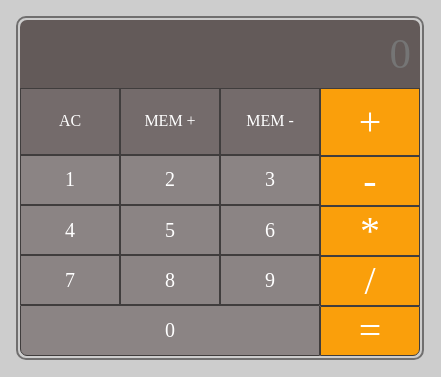
Scenario: App component › should show result after adding new operator
The image size is (441, 377).
Click the button "2" at (170, 180), box [120, 155, 220, 205]
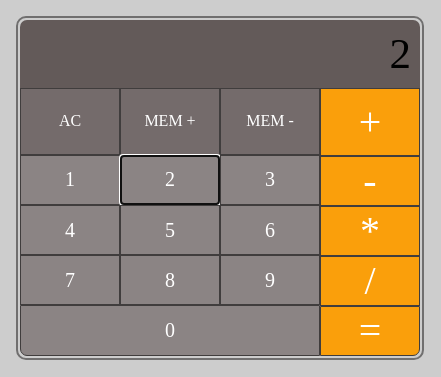
Click the button "+" at (370, 122), box [320, 88, 420, 156]
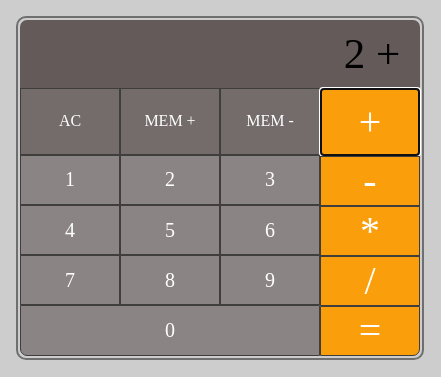
Click the button "2" at (170, 180), box [120, 155, 220, 205]
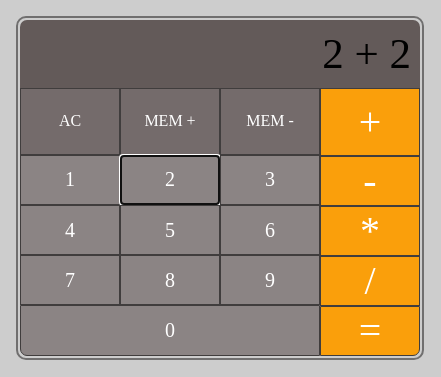
Expected: the field with placeholder "0" holds "2 + 2", [20, 20, 420, 88]
Click the button "+" at (370, 122), box [320, 88, 420, 156]
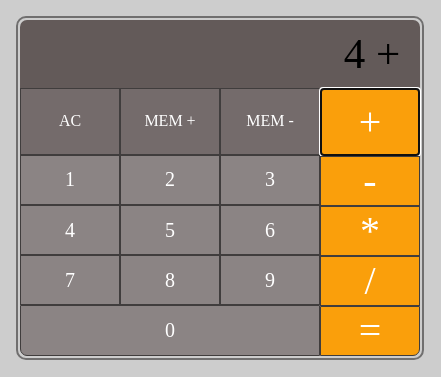
Expected: the field with placeholder "0" holds "4 + ", [20, 20, 420, 88]
